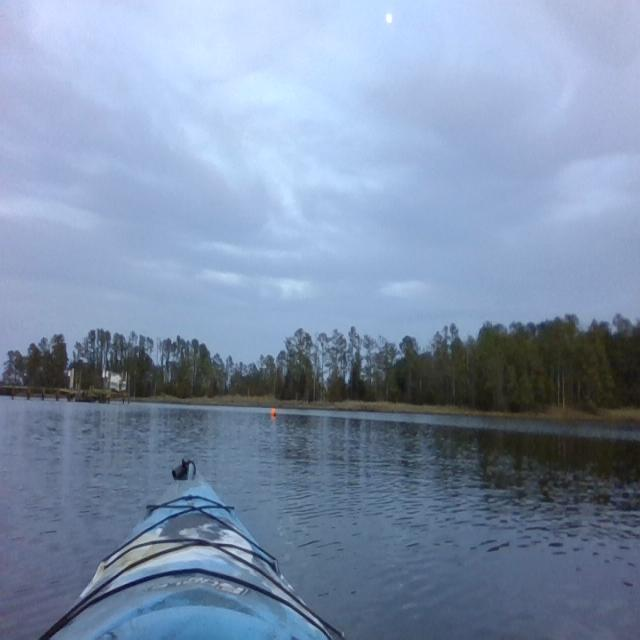Buoy: (269, 406, 278, 418)
